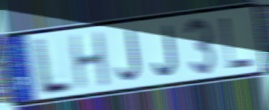3: (184, 15, 216, 77)
H: (68, 29, 112, 92)
J: (151, 23, 179, 78), (115, 27, 142, 83)
L: (34, 35, 73, 98), (220, 15, 256, 71)
